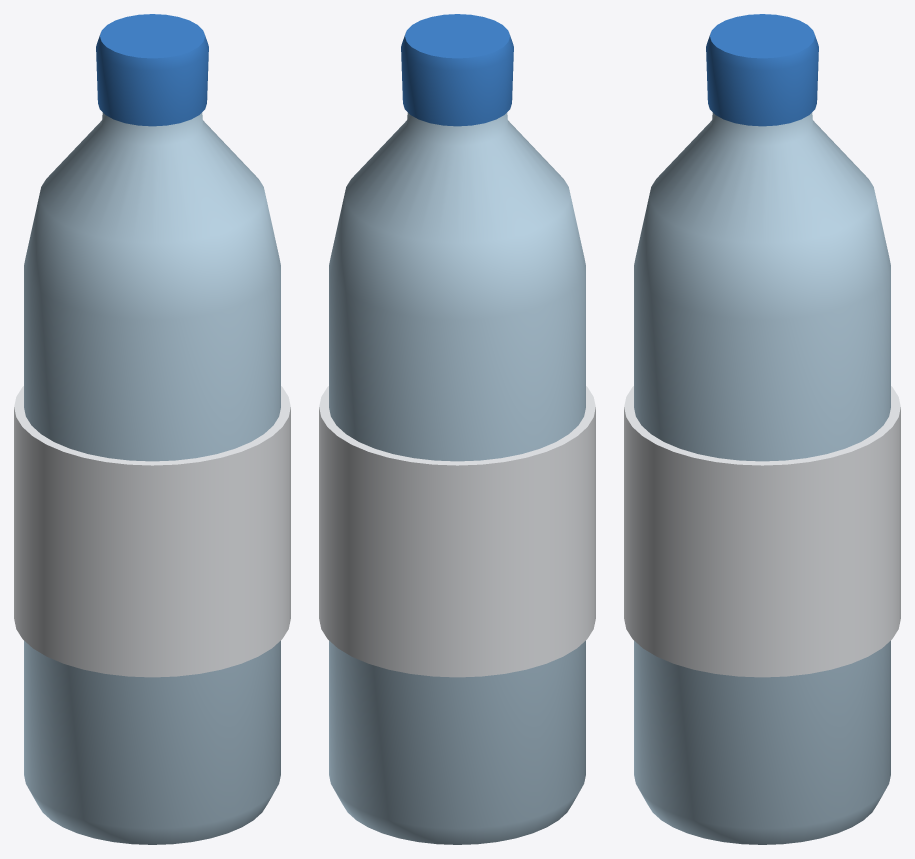
File: food_water.glb
3 views of the same model, side by side, from view 1: azimuth 30°, elevation 25°; view 2: azimuth 150°, elevation 25°; view 3: azimuth 270°, elevation 25° (orthographic).
Parts seen in each view (by area): view 1: Bottle_LOD0, Label_LOD0, Cap_LOD0; view 2: Bottle_LOD0, Label_LOD0, Cap_LOD0; view 3: Bottle_LOD0, Label_LOD0, Cap_LOD0.
Part boxes in pixels (left/top/right/bottom): Bottle_LOD0: left=24, top=112, right=280, bottom=844; Label_LOD0: left=14, top=386, right=290, bottom=677; Cap_LOD0: left=96, top=14, right=208, bottom=126; Bottle_LOD0: left=329, top=112, right=585, bottom=844; Label_LOD0: left=319, top=386, right=595, bottom=677; Cap_LOD0: left=401, top=14, right=513, bottom=126; Bottle_LOD0: left=634, top=112, right=890, bottom=844; Label_LOD0: left=624, top=386, right=900, bottom=677; Cap_LOD0: left=706, top=14, right=818, bottom=126.
Bounding box in the file's own units: 0.071 × 0.215 × 0.071.
